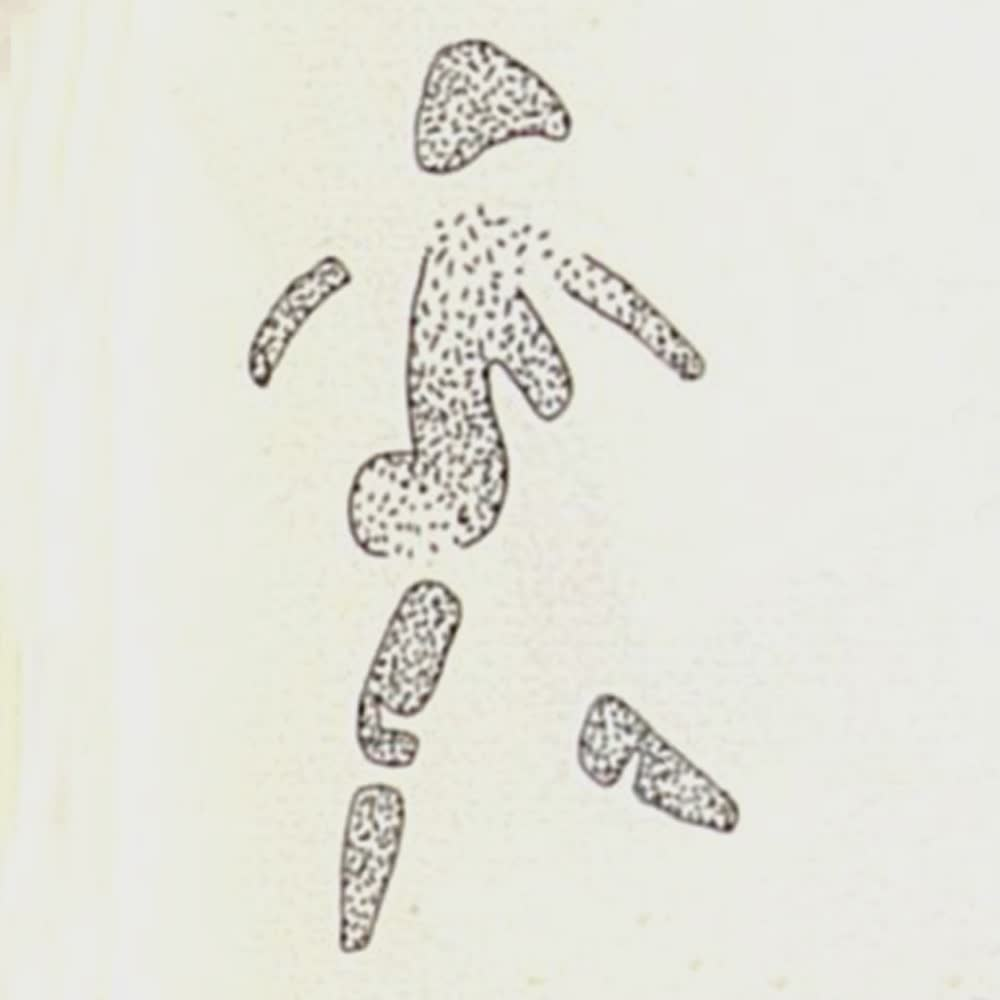woman: (244, 41, 744, 961)
